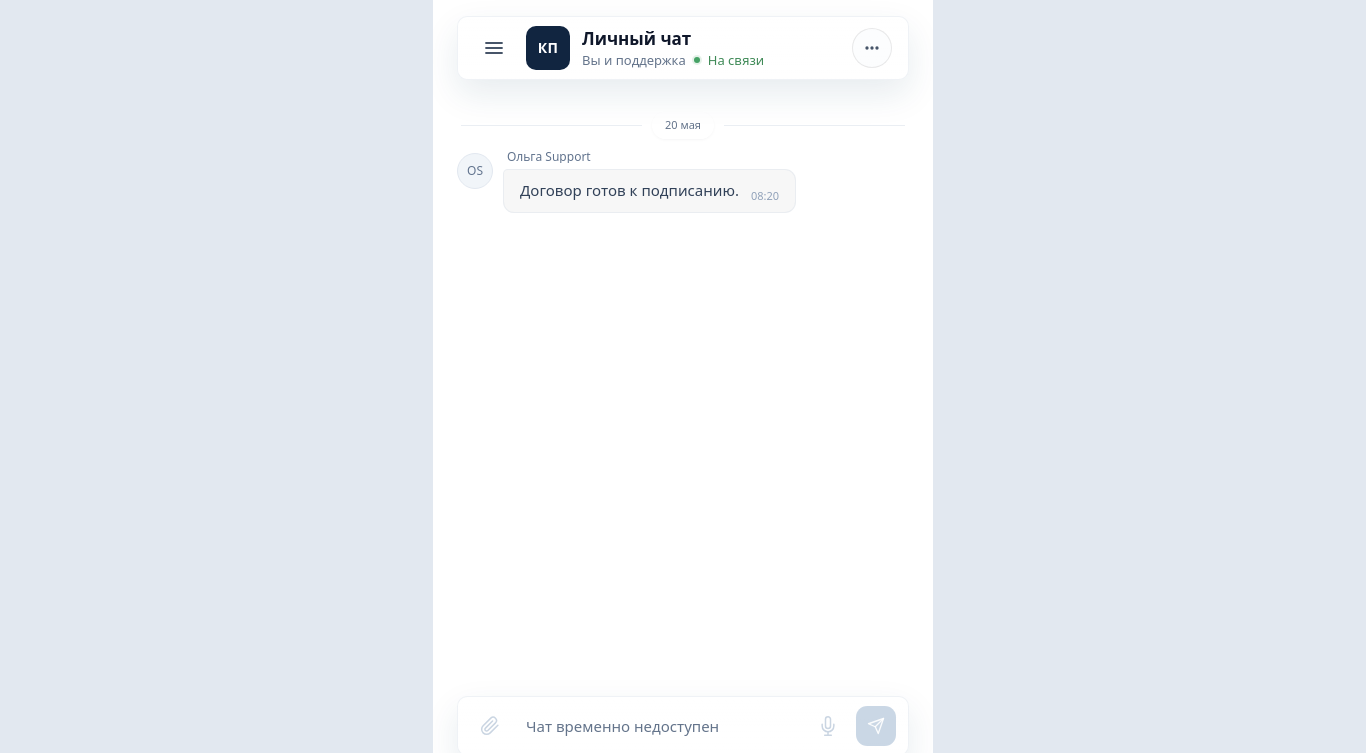
Test: ChatPage search panel › keeps search open and shows an error when an unloaded result cannot be opened
Expected: the text "Договор готов к подписанию." is shown, x1=520 y1=180 x2=739 y2=200
Click the button named "Открыть меню чата" at [872, 48], box x1=852 y1=28 x2=892 y2=68
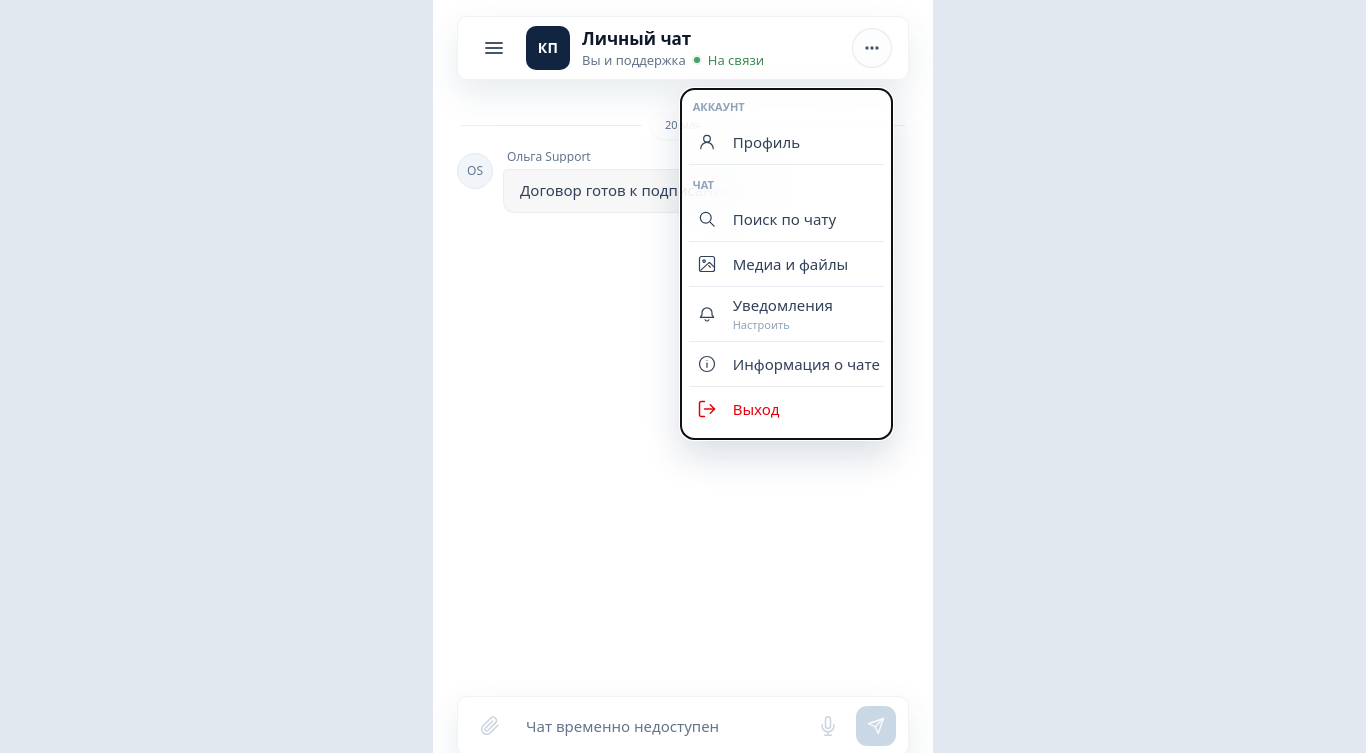
Click the menu item "Поиск по чату" at [786, 220], box x1=689 y1=197 x2=884 y2=242
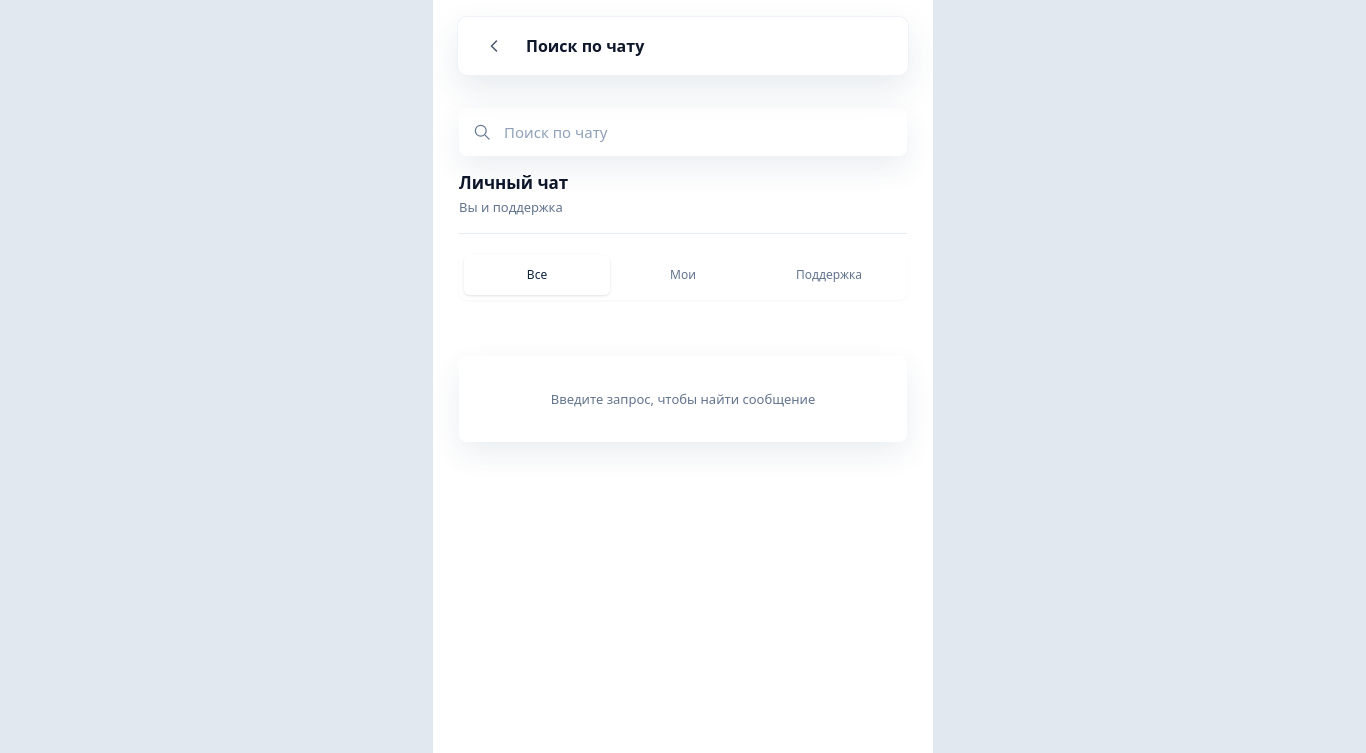
Type "договор" into the search field labelled "Поиск по чату" at [699, 132], box x1=504 y1=110 x2=894 y2=154
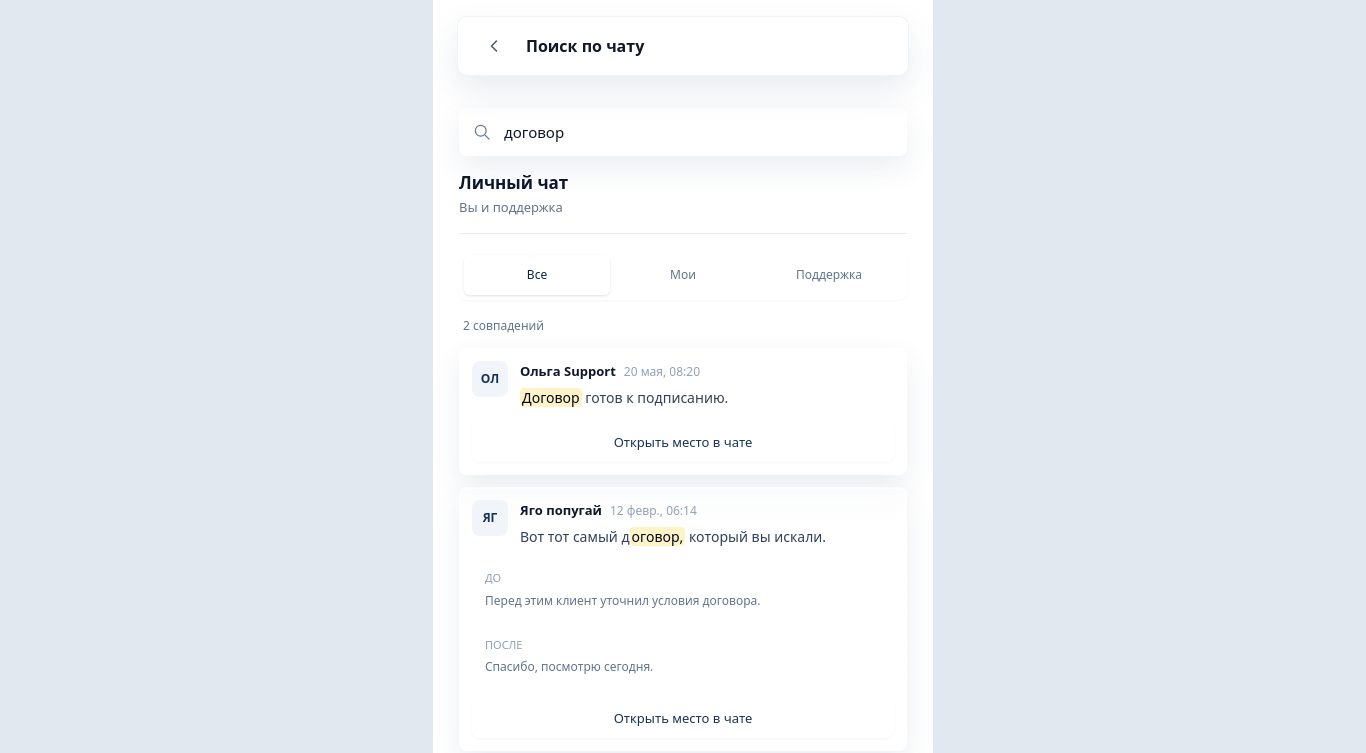
Click the button "Открыть место в чате" below "Спасибо, посмотрю сегодня." at [683, 718], box x1=472 y1=698 x2=894 y2=738
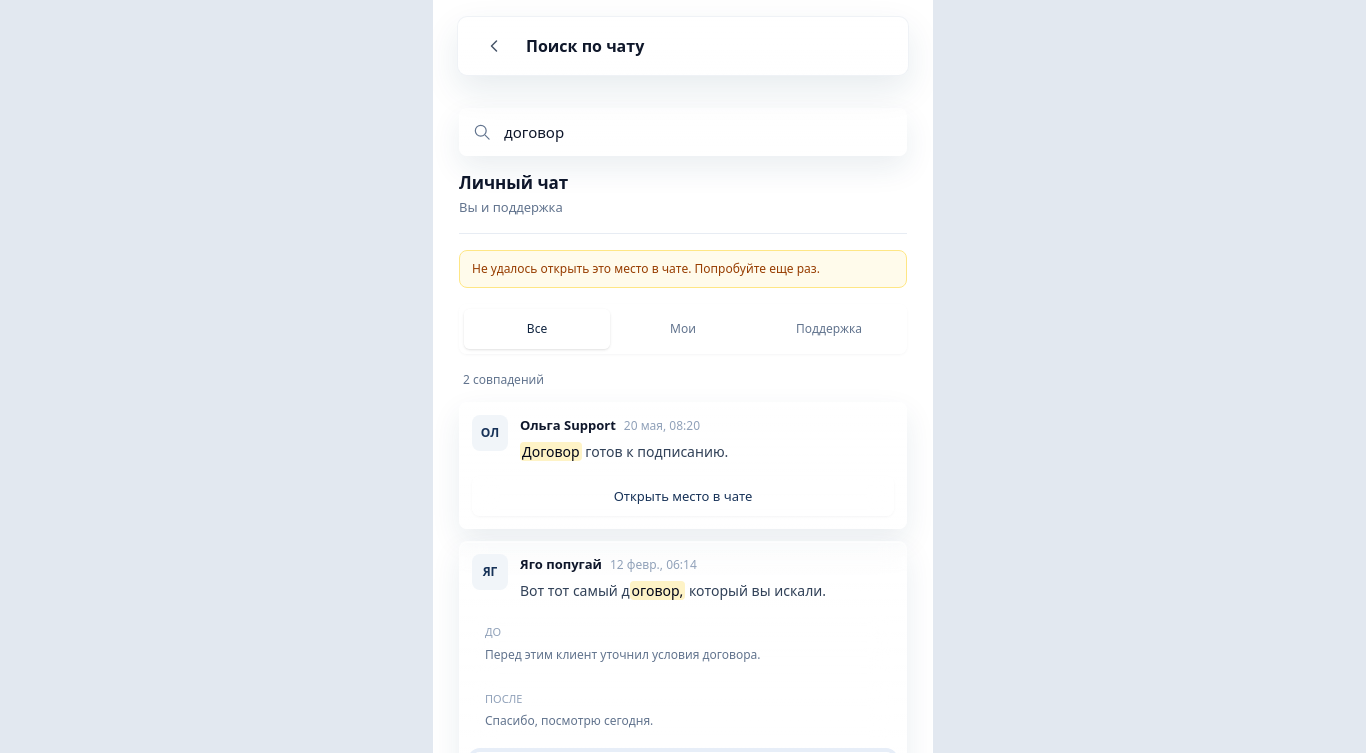
Result: the heading "Поиск по чату" is shown at x1=526 y1=35 x2=644 y2=57
Result: the text "Не удалось открыть это место в чате. Попробуйте еще раз." is shown at x1=459 y1=250 x2=907 y2=288
